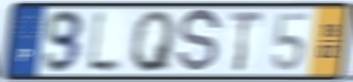5: (270, 10, 310, 73)
9: (41, 8, 88, 75)
L: (84, 6, 126, 78)
Q: (130, 9, 179, 75)
S: (174, 7, 224, 77)
T: (228, 10, 265, 74)
